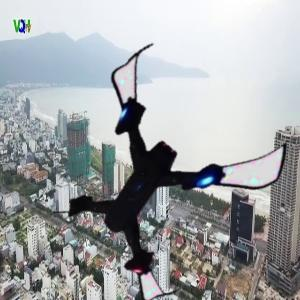drone: (46, 57, 266, 277)
